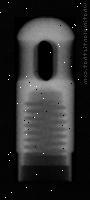Titan Implants: (13, 16, 76, 183)
